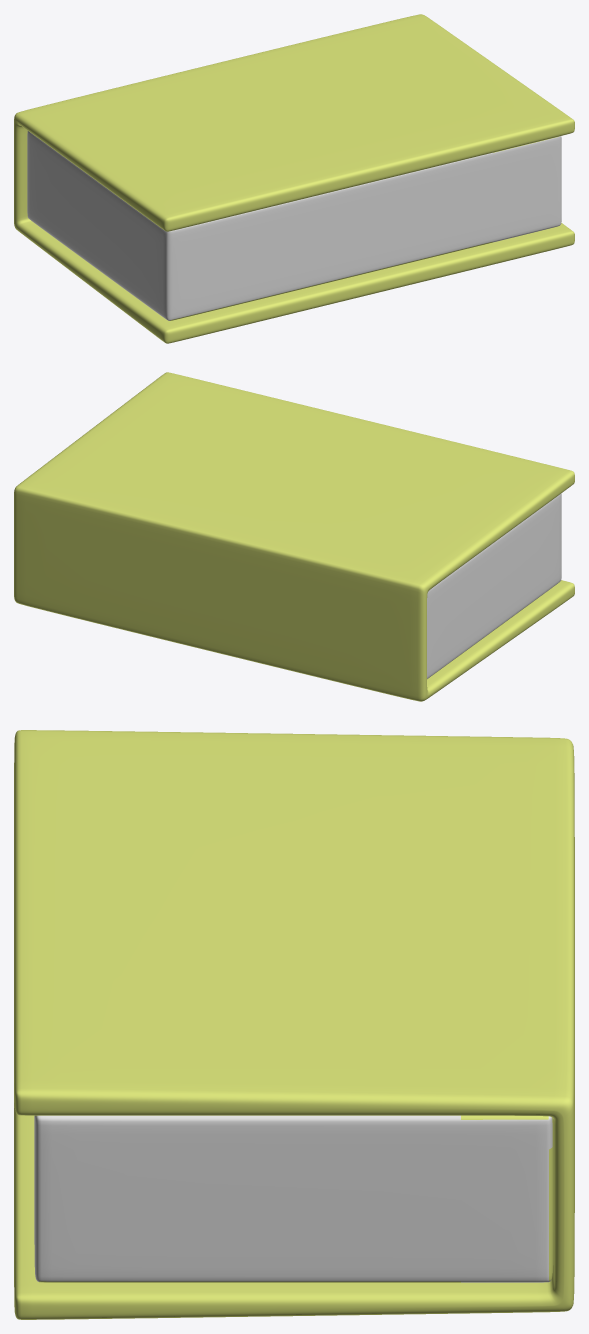
Rendered from Book02.fbx.
3 views of the same model, one above another, from view 1: azimuth 30°, elevation 25°; view 2: azimuth 150°, elevation 25°; view 3: azimuth 270°, elevation 25° (orthographic). The views are drawn at different scales.
Visible parts, largest first — view 1: Plane.017; view 2: Plane.017; view 3: Plane.017.
Part boxes in pixels (bbox=[...]): Plane.017: bbox=[14, 14, 574, 343]; Plane.017: bbox=[14, 372, 574, 701]; Plane.017: bbox=[14, 730, 574, 1319].
Size of the model in its own units: 203 by 59.45 by 131.
